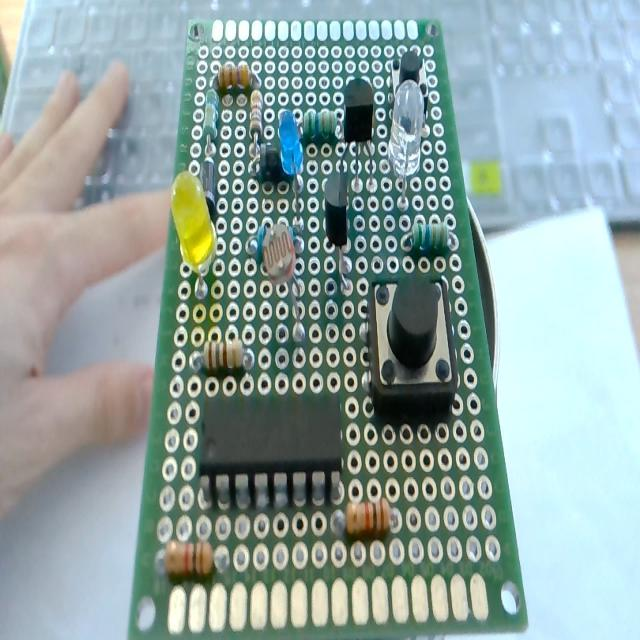IC: (186, 388, 355, 505)
cds: (261, 220, 306, 351)
diode: (278, 108, 308, 225)
led: (168, 166, 226, 303), (387, 77, 425, 212)
resistor: (153, 533, 228, 581), (328, 496, 407, 541), (188, 335, 260, 380), (400, 220, 462, 257), (197, 82, 226, 158), (207, 58, 263, 93), (296, 104, 345, 144), (246, 89, 266, 155)
switch: (362, 271, 466, 427)
transistor: (339, 76, 382, 187), (322, 170, 356, 300)
